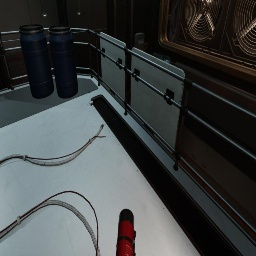EmergencyPhone ,: (144, 39, 148, 53)
FireExtinguisher ]: (116, 208, 136, 256)
SafetySwitchPanel ,: (134, 33, 146, 52)
